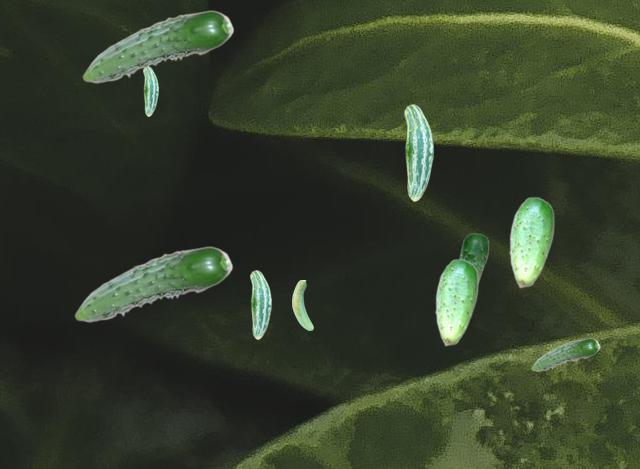cucumber: (74, 246, 232, 321), (82, 10, 233, 82), (509, 196, 553, 287), (435, 258, 477, 345), (404, 104, 432, 200), (531, 338, 599, 370), (459, 233, 488, 285), (250, 270, 270, 338), (292, 280, 312, 329), (143, 66, 157, 115)
